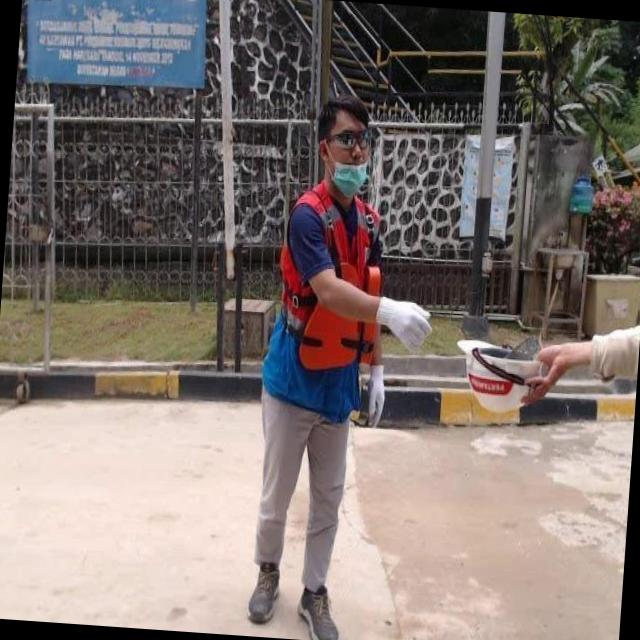hard_hat: (452, 331, 548, 418)
safety_vest: (256, 178, 391, 419)
vehicle: (204, 79, 467, 640)
work_boots: (294, 579, 345, 640), (247, 555, 286, 626)
